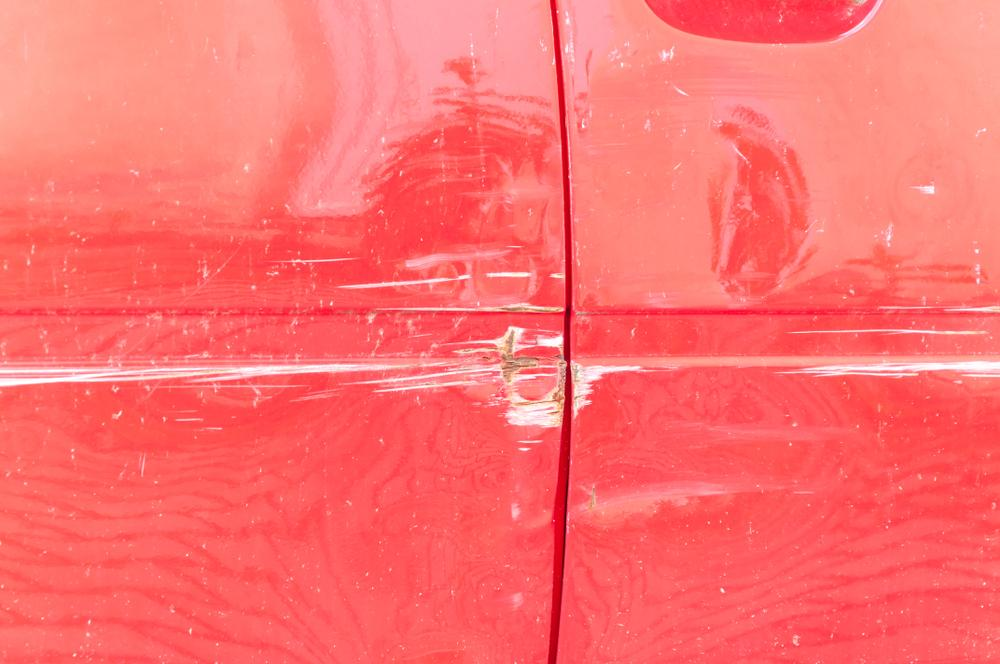dent: (707, 104, 814, 306)
scratch: (0, 239, 571, 437), (571, 289, 1000, 416)
